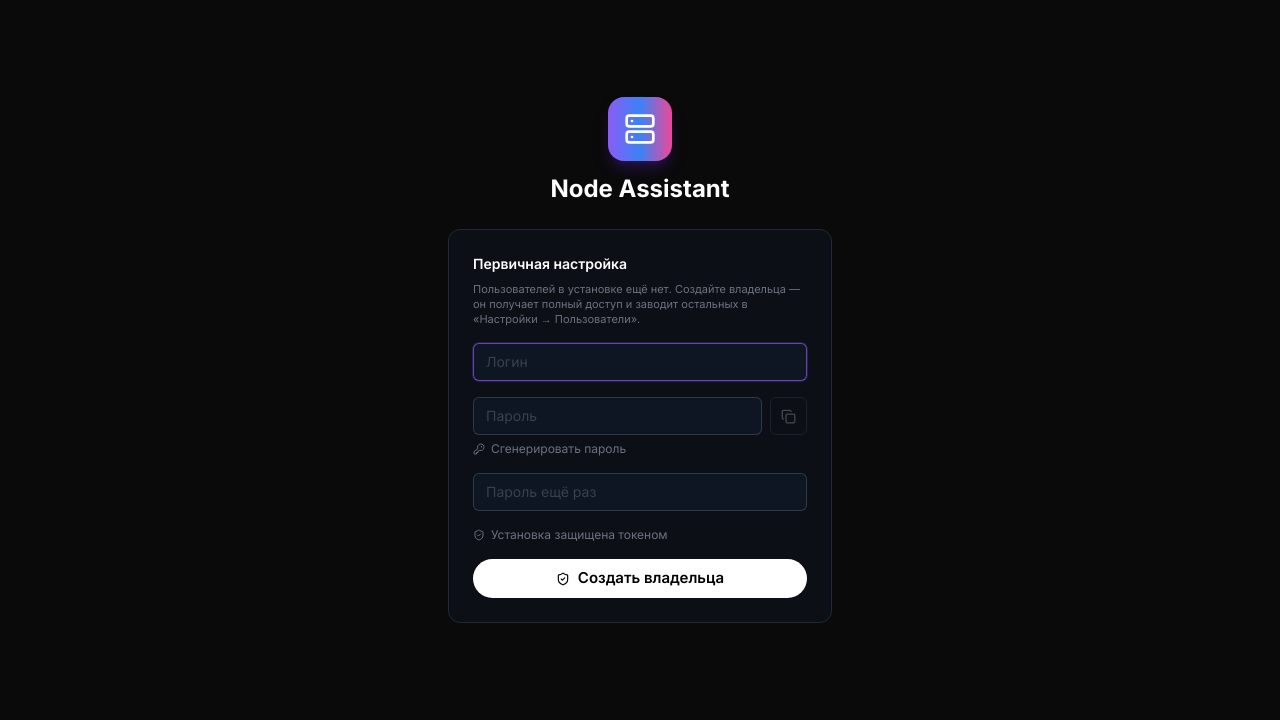
AuthScreen › generates a password into both fields and warns that it is not stored
Expected: the text "Первичная настройка" is shown, top-left (473, 255), bottom-right (627, 272)
Expected: the text "скопируйте его сейчас" is not shown
Click the button "Сгенерировать пароль".
click(550, 449)  # box top-left (473, 441), bottom-right (626, 457)
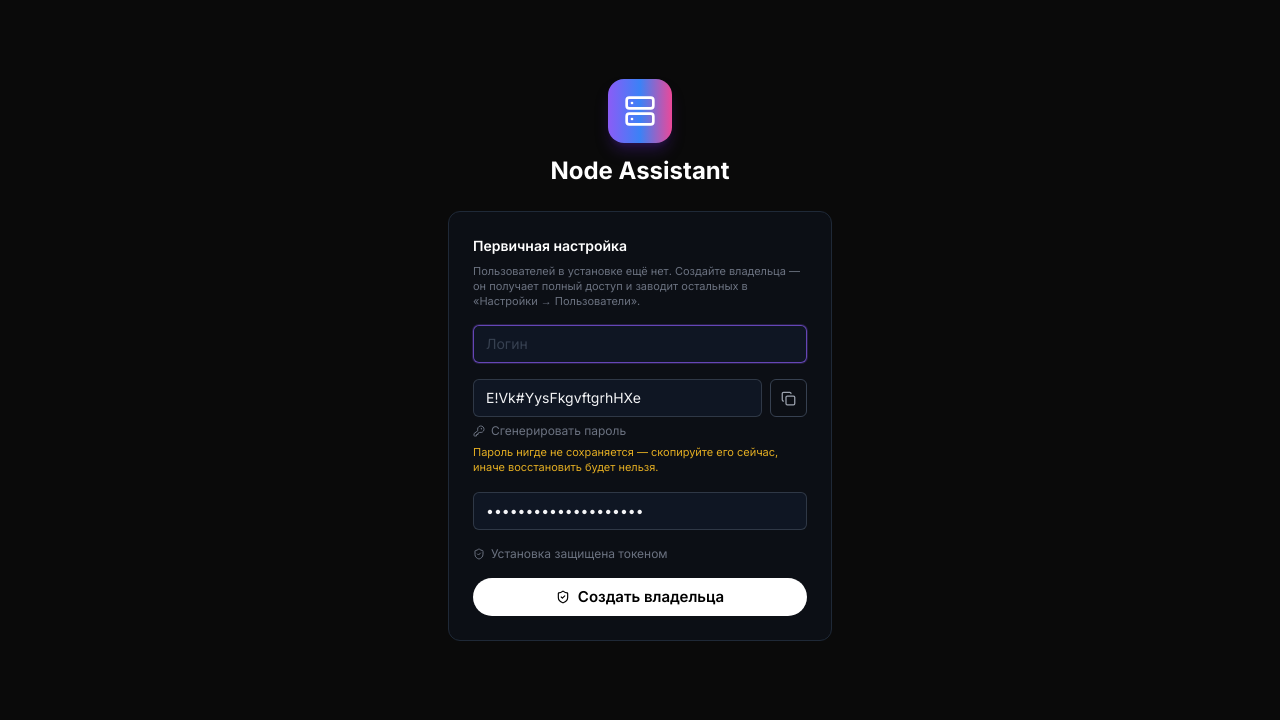
Expected: the text "скопируйте его сейчас" is shown, top-left (473, 445), bottom-right (778, 474)
Replace the text in the field with placeholder "Пароль" with "manual-password" at (618, 398), box top-left (473, 379), bottom-right (762, 417)
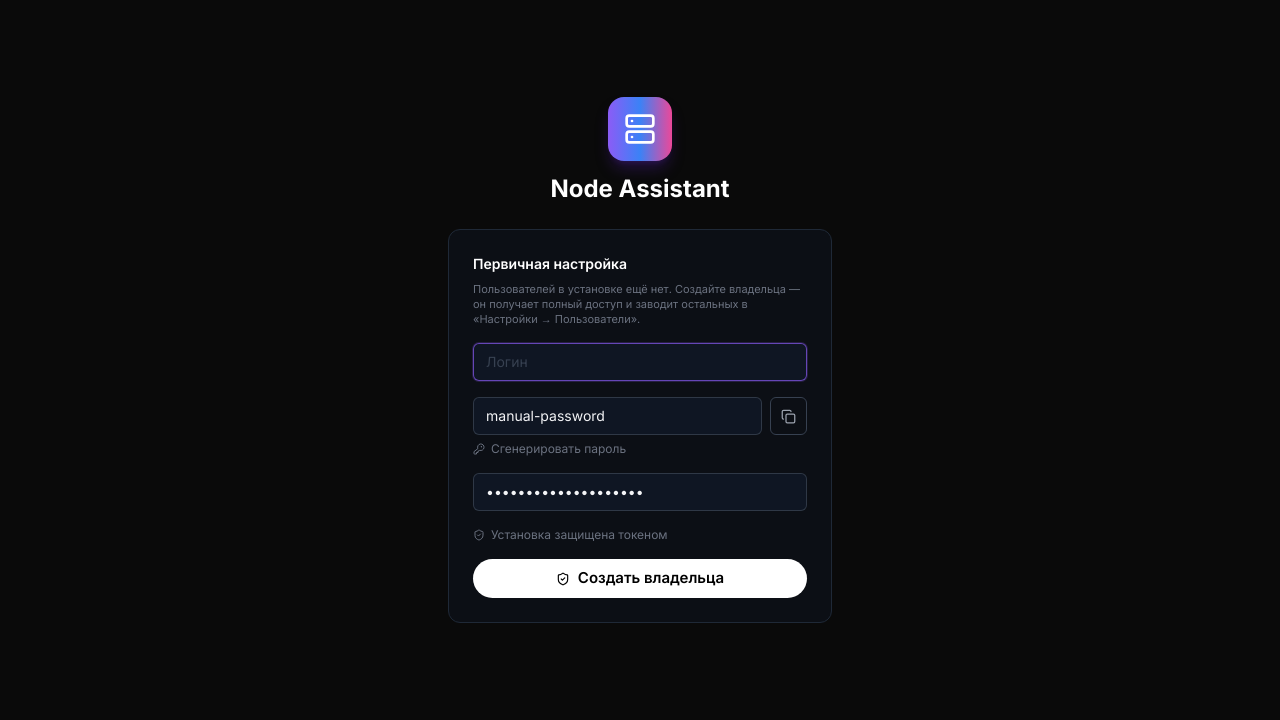
Expected: the text "скопируйте его сейчас" is gone
